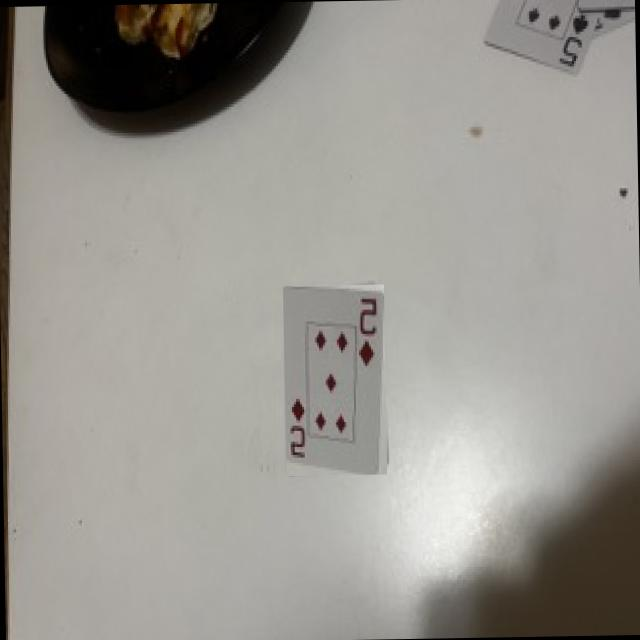5 of diamonds: (283, 284, 383, 472)
